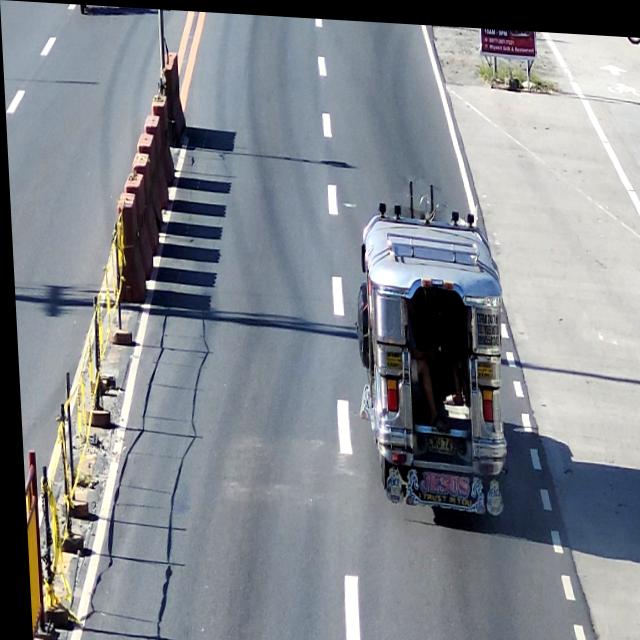Jeep: (355, 208, 508, 522)
License-Plate: (419, 424, 457, 459)
